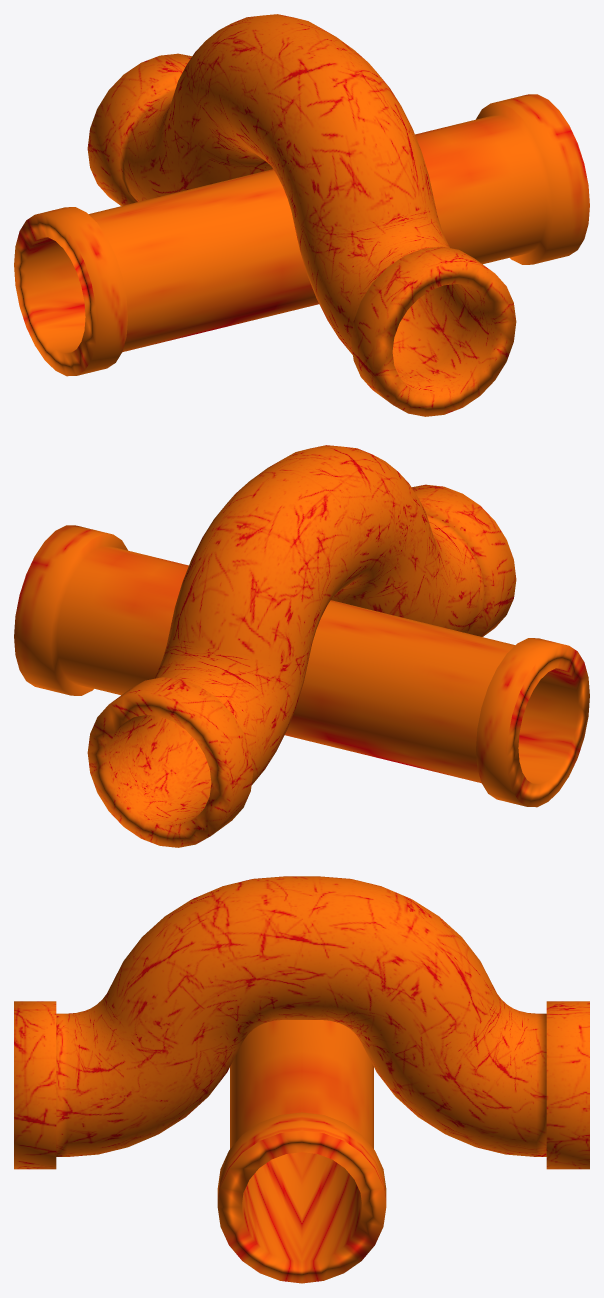
Rendered from Pipe.glb.
3 renders of one model, top to bottom at view 1: azimuth 30°, elevation 25°; view 2: azimuth 150°, elevation 25°; view 3: azimuth 270°, elevation 25°, orthographic.
Visible parts, largest first — view 1: Pipe_X_merge_Centered; view 2: Pipe_X_merge_Centered; view 3: Pipe_X_merge_Centered.
Boxes of the visible parts, x1,y1,x2,y2 form: Pipe_X_merge_Centered: [14, 14, 589, 416]; Pipe_X_merge_Centered: [14, 445, 589, 847]; Pipe_X_merge_Centered: [14, 876, 589, 1283].
Size of the model in its own units: 2 by 1.07 by 2.
Materials: 1 (1 with a texture image).
